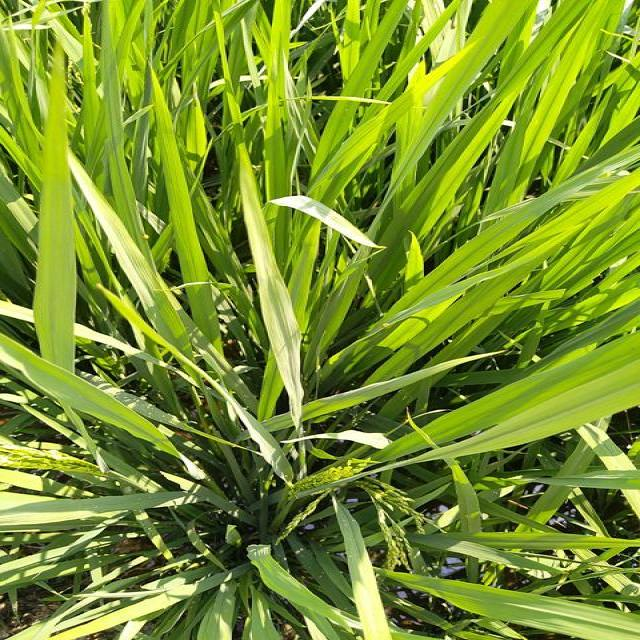Rice: (342, 2, 538, 322), (60, 3, 200, 359), (383, 324, 640, 471), (530, 0, 640, 276), (223, 116, 308, 420), (0, 331, 192, 461), (395, 567, 640, 640), (30, 51, 71, 366), (251, 545, 358, 638), (407, 523, 640, 565), (328, 500, 391, 640), (0, 487, 196, 521)
